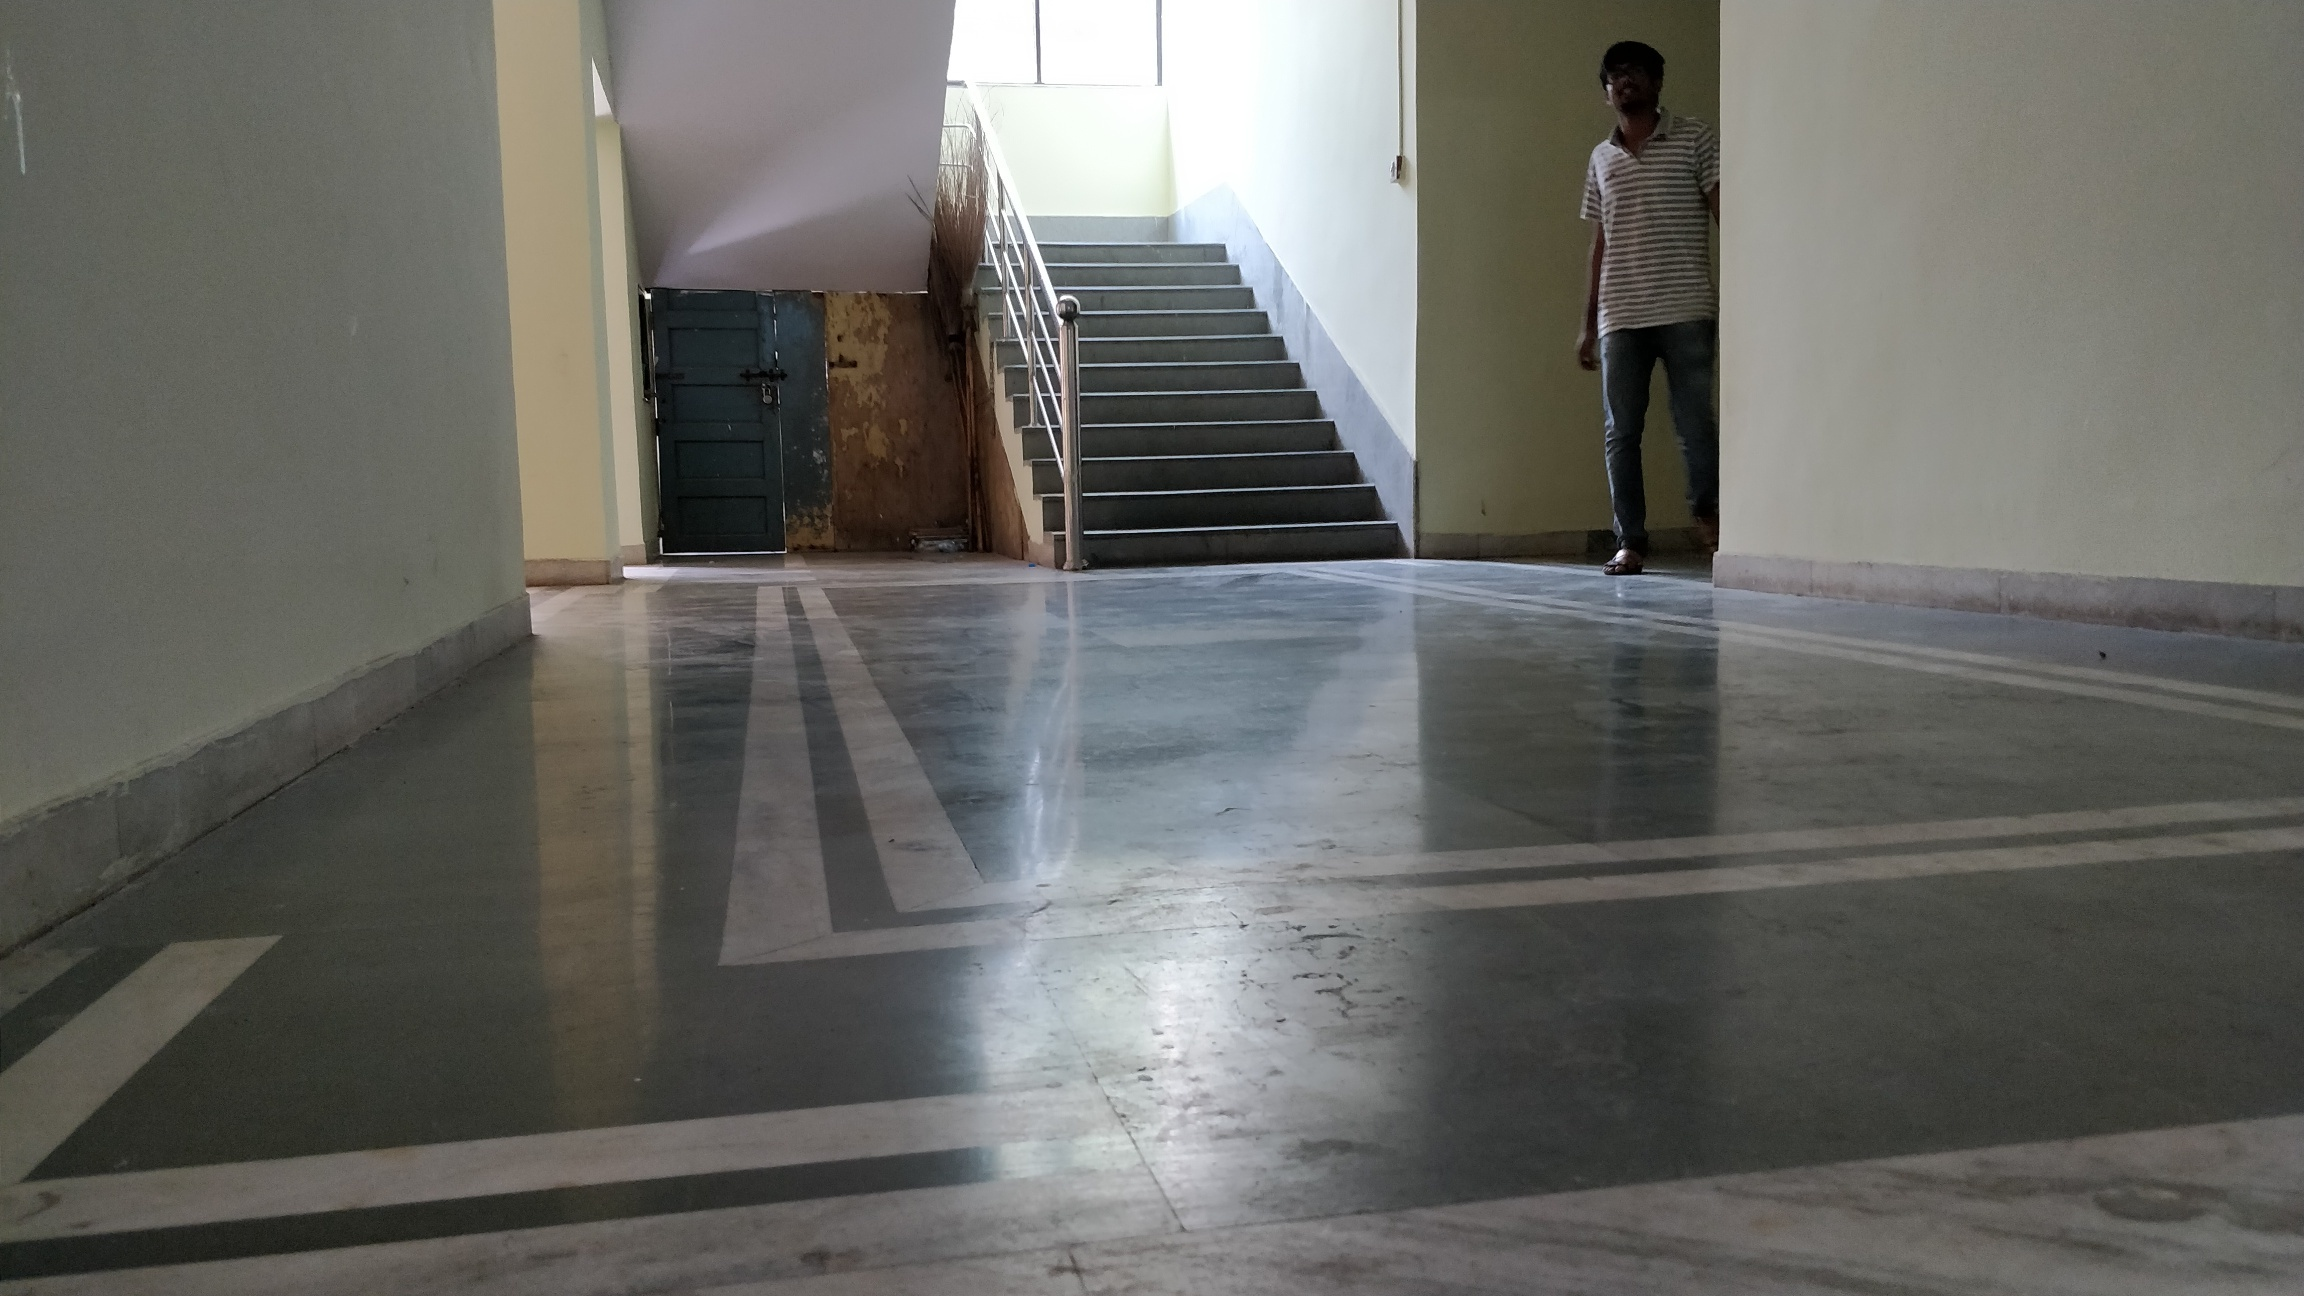stairs_up: (968, 242, 1413, 559)
